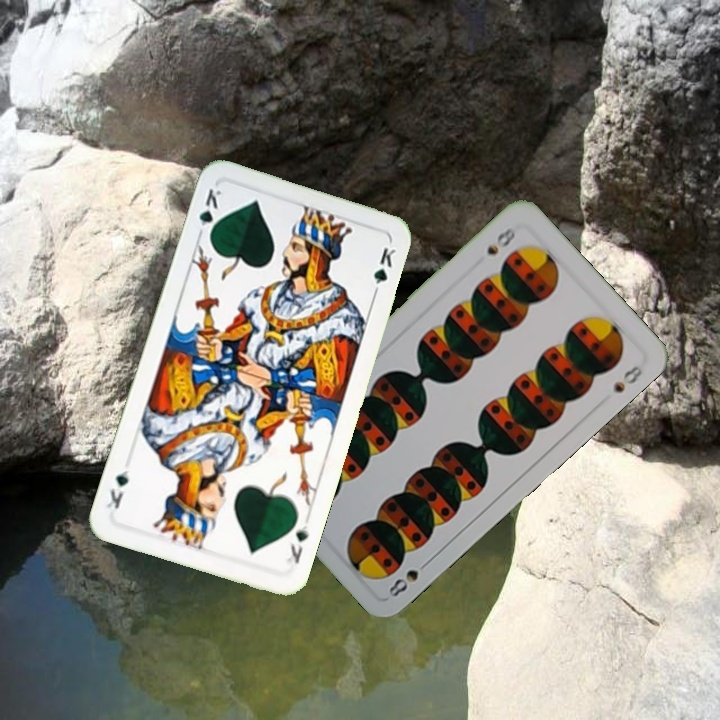GK: (193, 184, 224, 242), (282, 521, 311, 567)
S8: (384, 555, 434, 600), (482, 223, 518, 258)
